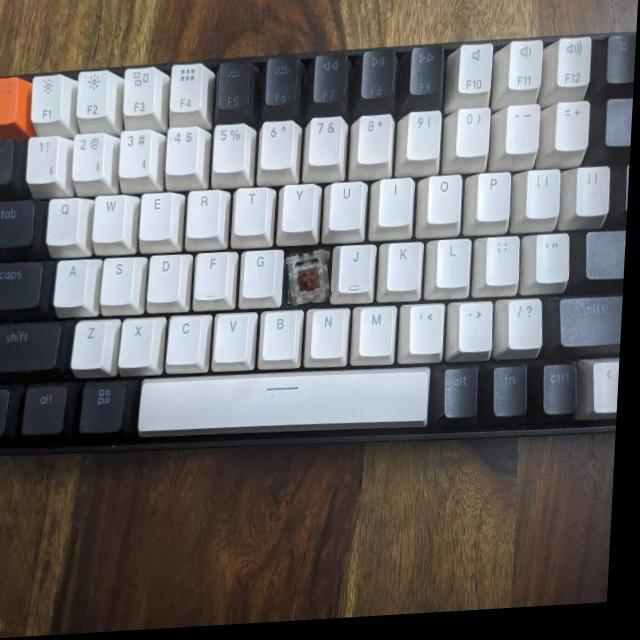key-switch: (287, 248, 335, 308)
